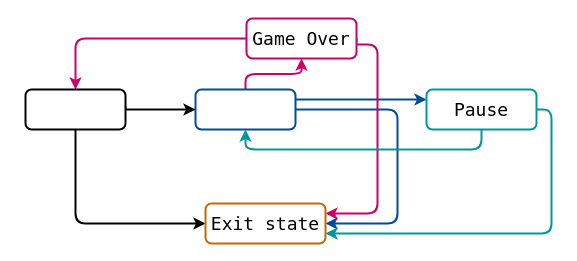
Some shapes in this 577 by 261 pixel diagram are drawn without their labels. Each missing label, with the centre of its shape:
Moving: point (245, 109)
Start: point (75, 109)
